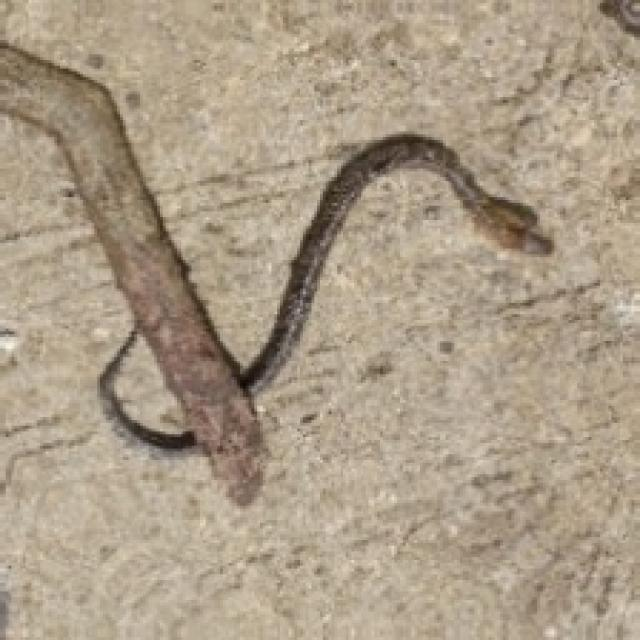philippine cobra: (0, 43, 551, 503), (111, 331, 189, 434)
